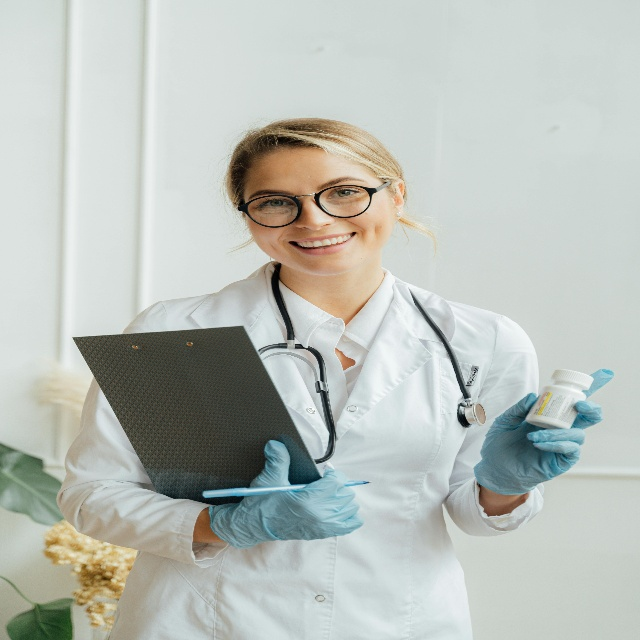Gafas: (236, 179, 394, 230)
Guantes: (472, 367, 615, 497), (206, 438, 364, 550)
